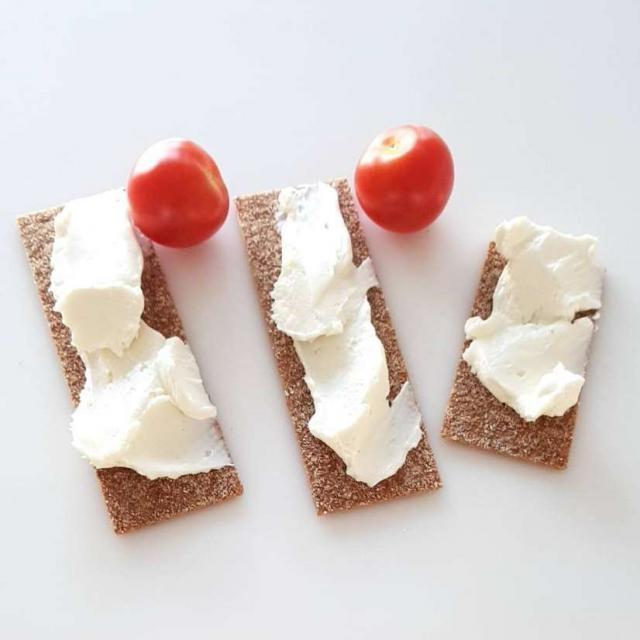cream-cheese: (49, 192, 596, 488)
tomato: (121, 123, 450, 256)
